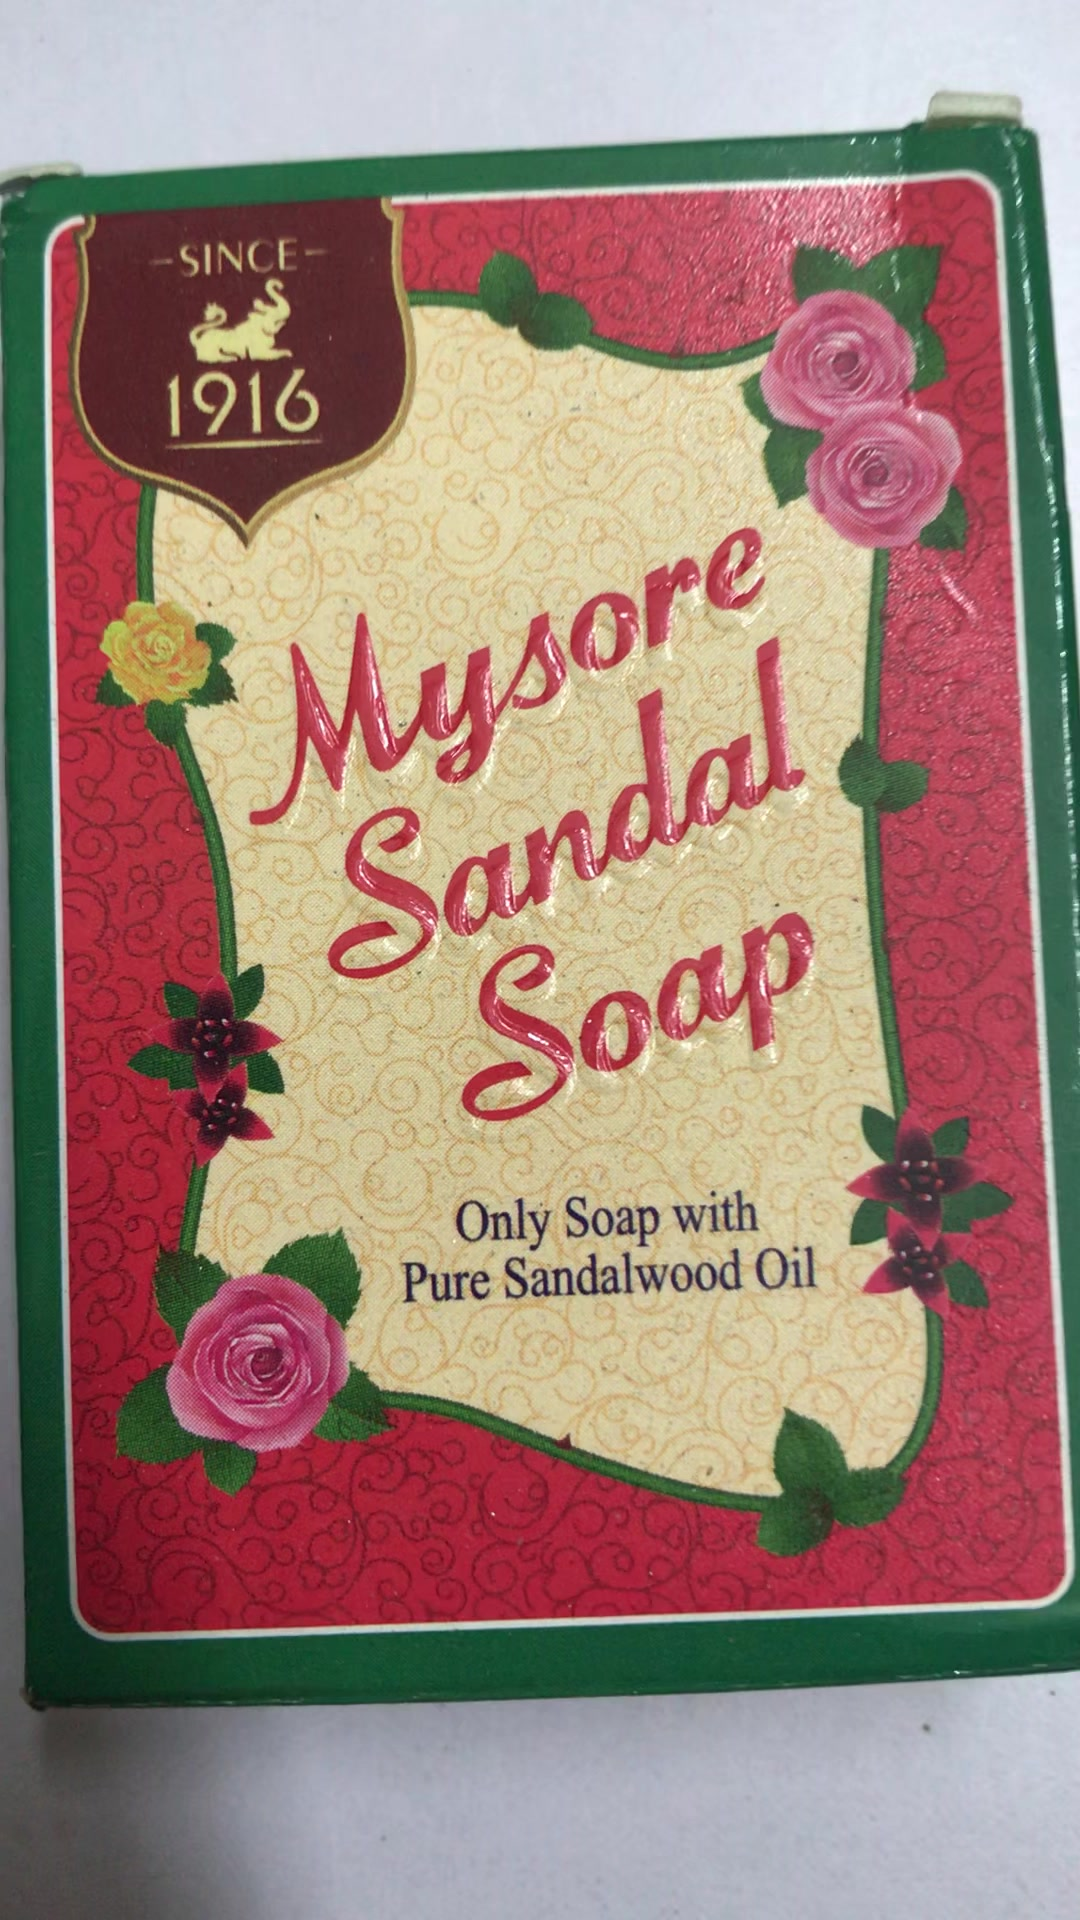mysore sandal soap: (15, 142, 1076, 1696)
